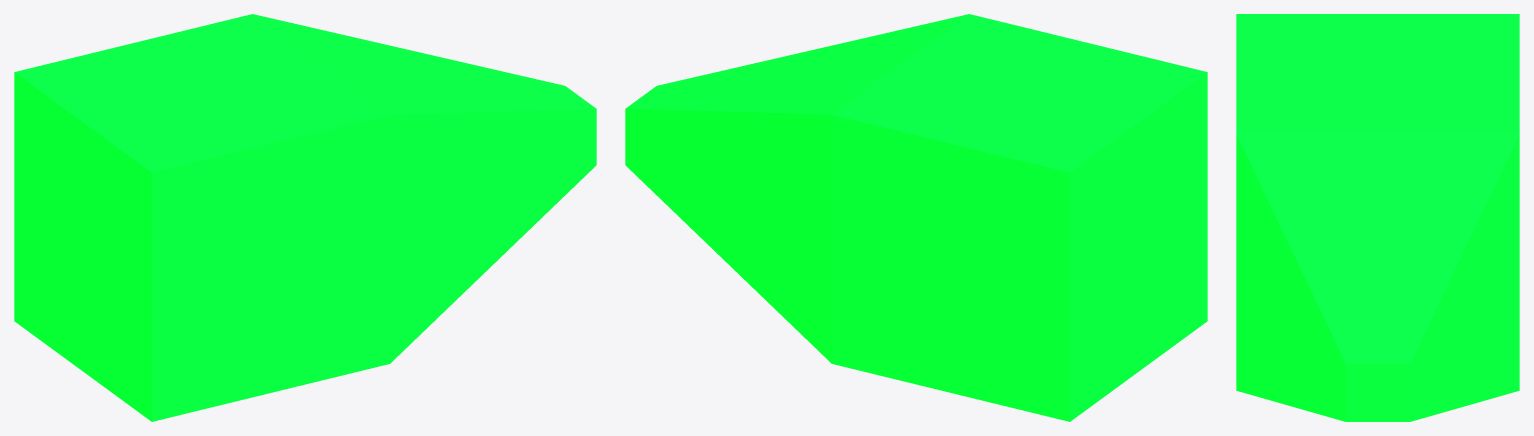
The model's file is balika.dae.
3 views of the same model, side by side, from view 1: azimuth 30°, elevation 25°; view 2: azimuth 150°, elevation 25°; view 3: azimuth 270°, elevation 25° (orthographic). The views are drawn at different scales.
Parts seen in each view (by area): view 1: Balika; view 2: Balika; view 3: Balika.
Boxes of the visible parts, <box> form: Balika: <box>14,14,596,421</box>; Balika: <box>625,14,1207,421</box>; Balika: <box>1236,14,1519,421</box>.
Bounding box in the file's own units: 0.307 × 0.1469 × 0.1469.
